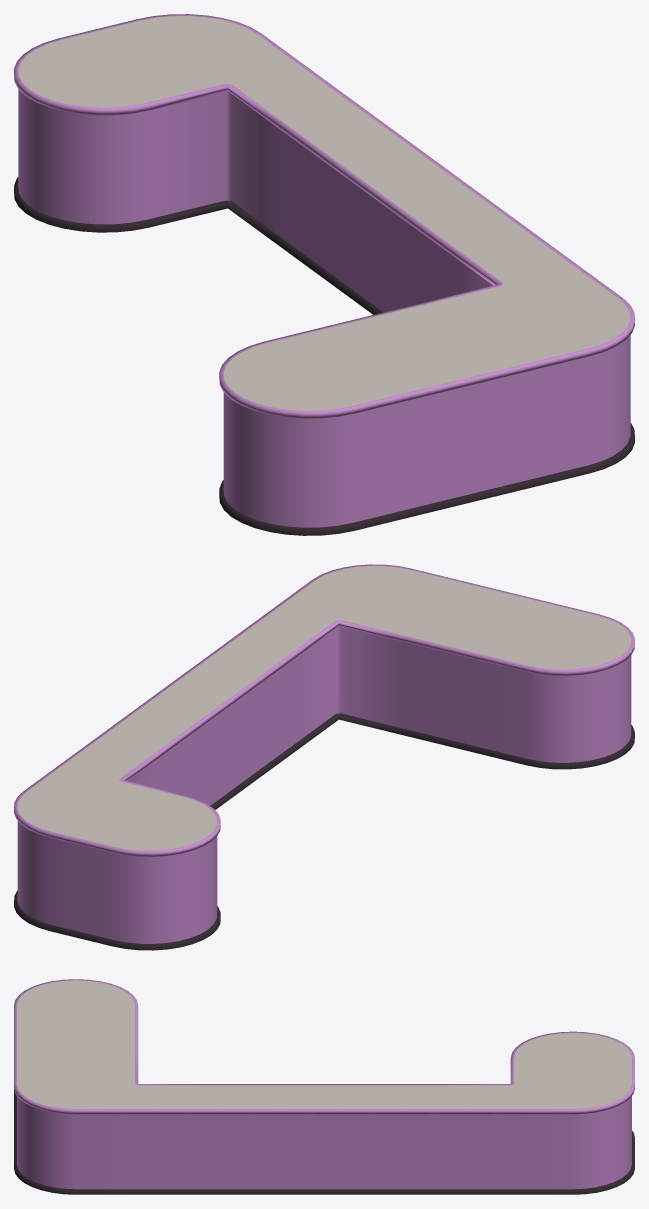
Rendered from GB_counter_chez_luc.glb.
The picture shows the model from 3 angles, top to bottom: view 1: azimuth 30°, elevation 25°; view 2: azimuth 150°, elevation 25°; view 3: azimuth 270°, elevation 25°; orthographic projection. The views are drawn at different scales.
Visible parts, largest first — view 1: counter_chez_luc; view 2: counter_chez_luc; view 3: counter_chez_luc.
Part boxes in pixels (x1,y1,x2,y2): counter_chez_luc: (14,14,634,535); counter_chez_luc: (14,564,634,950); counter_chez_luc: (14,979,634,1194).
Bounding box in the file's own units: 3.75 × 1.12 × 7.5.
